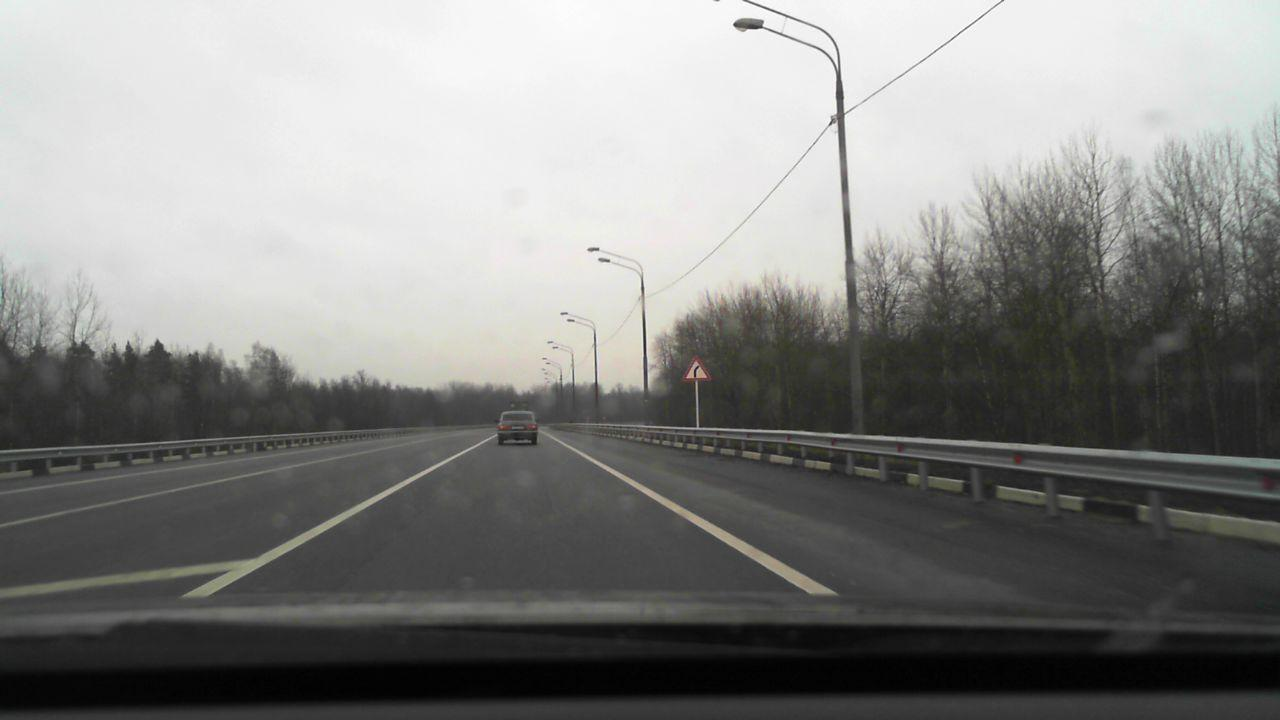1_11_1: (681, 355, 711, 380)
